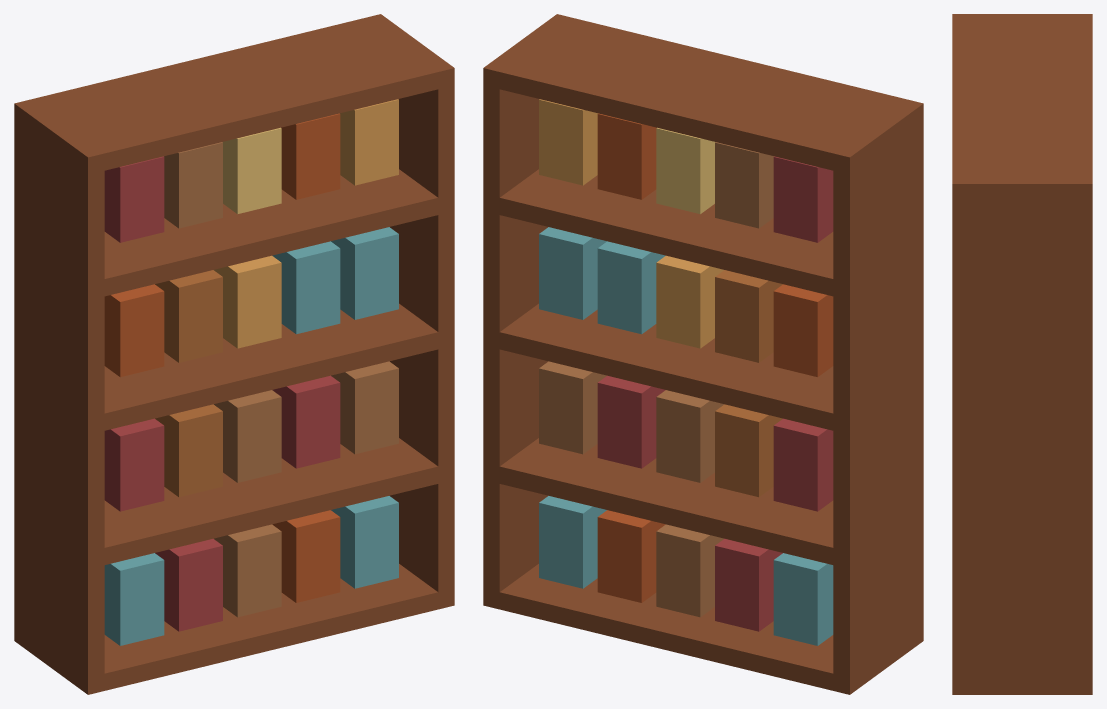
The model's file is towel_shelf.glb.
3 renders of one model, left to right at view 1: azimuth 30°, elevation 25°; view 2: azimuth 150°, elevation 25°; view 3: azimuth 270°, elevation 25°, orthographic. The views are drawn at different scales.
Bounding box in the file's own units: 0.9979 × 1.4 × 0.348.
1 material, 1 textured.
